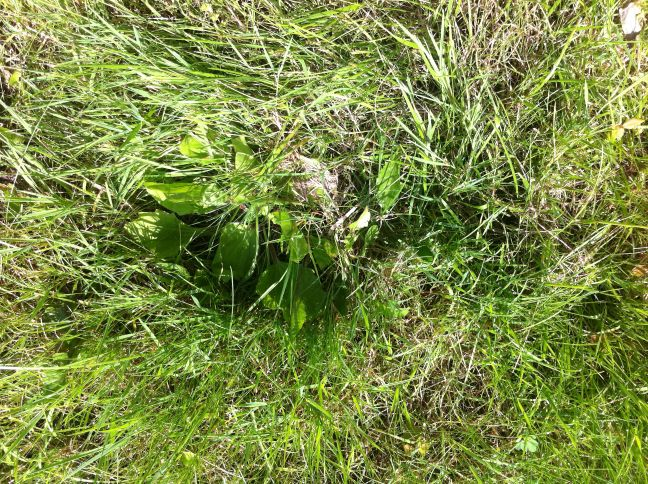weed1: (118, 129, 357, 341)
